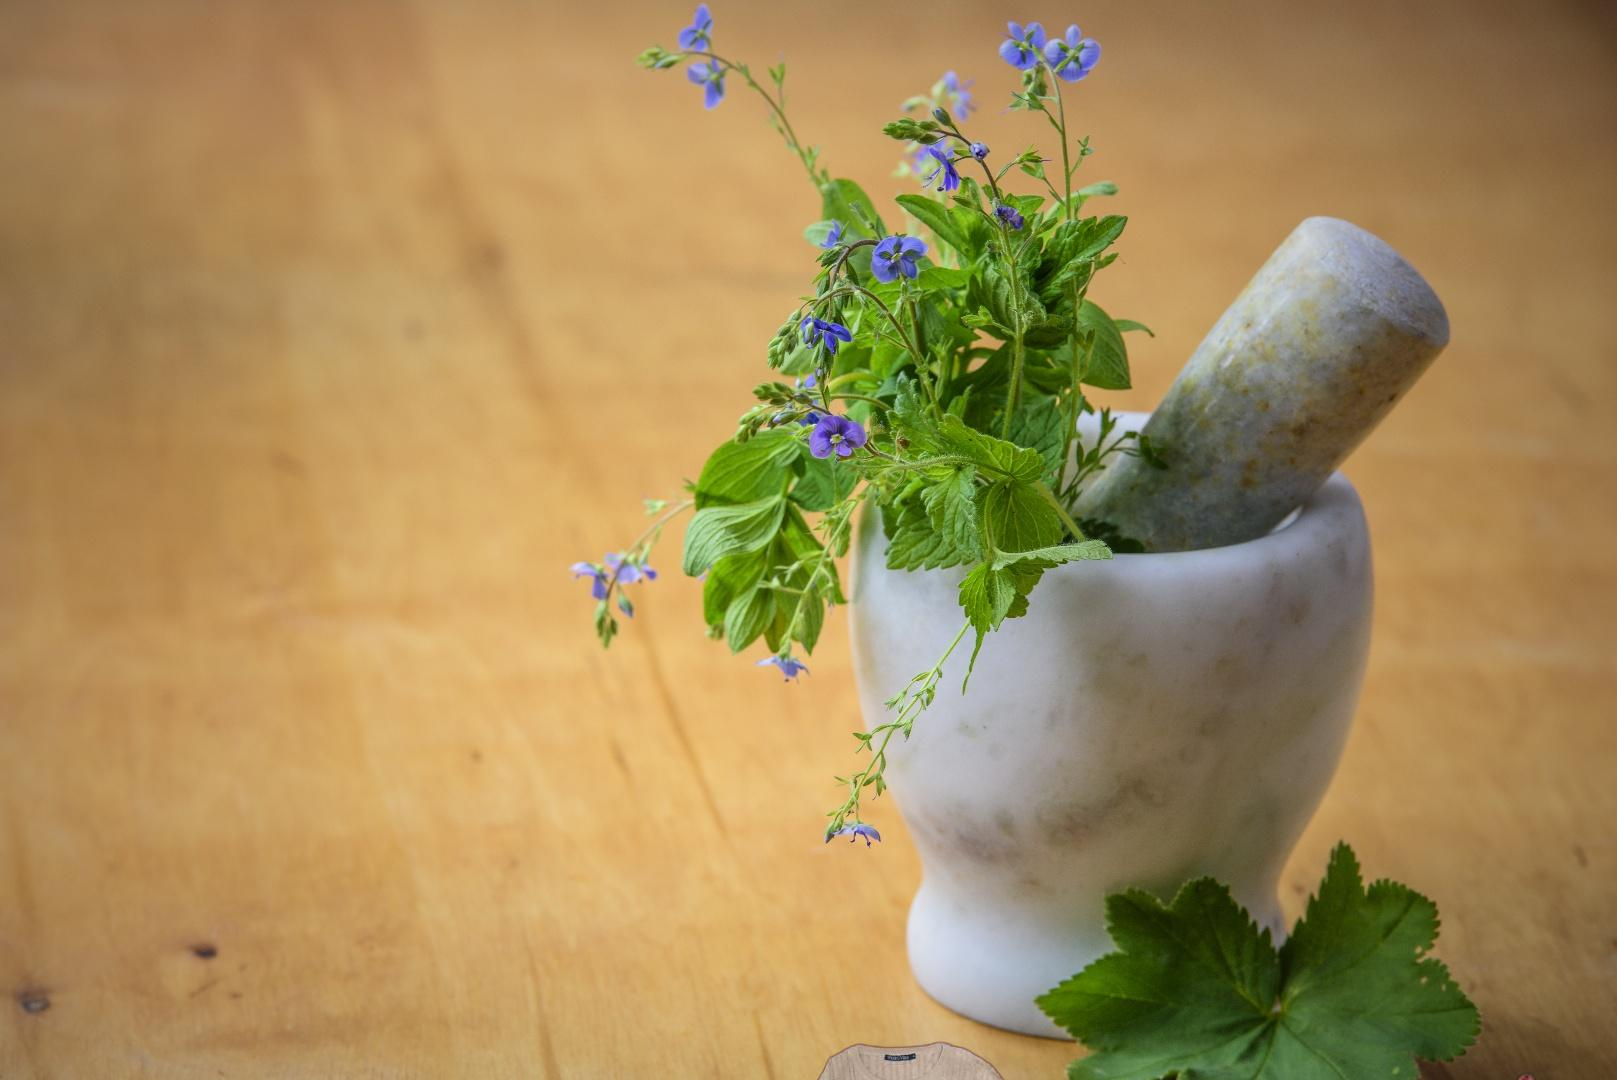clothes: (733, 1037, 1092, 1080), (1272, 1068, 1595, 1080)
